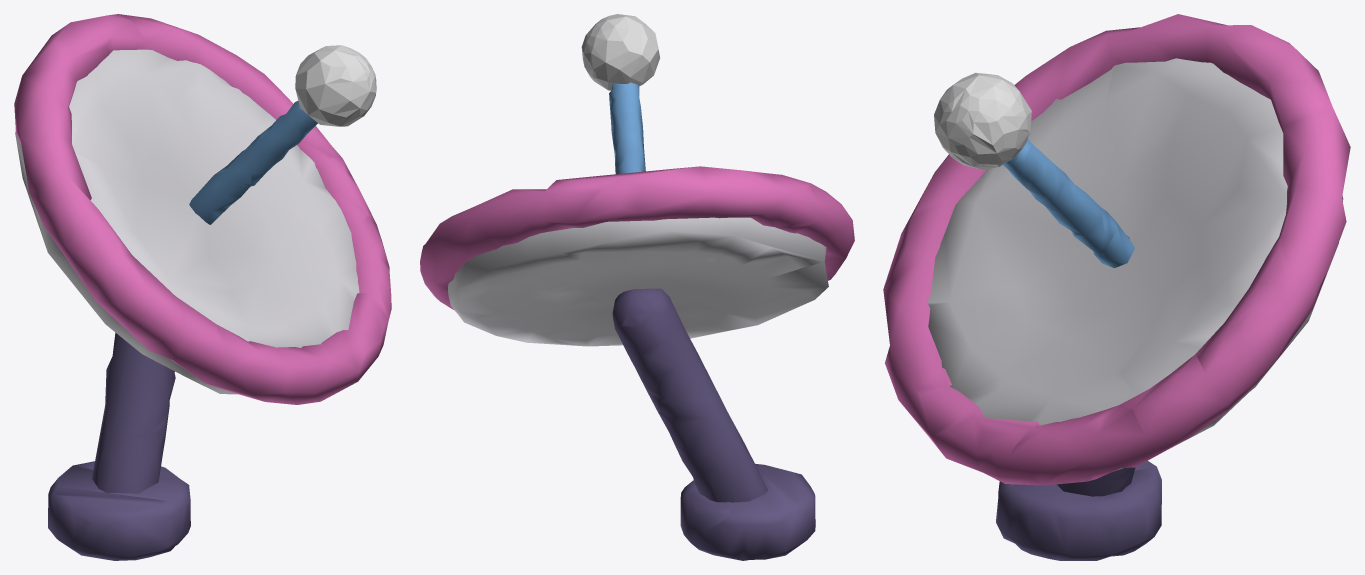
The model's file is gear_antenne.glb.
3 renders of one model, left to right at view 1: azimuth 30°, elevation 25°; view 2: azimuth 150°, elevation 25°; view 3: azimuth 270°, elevation 25°, orthographic. The views are drawn at different scales.
Visible parts, largest first — view 1: arm_l__antenne, arm_l__antenne_glow; view 2: arm_l__antenne, arm_l__antenne_glow; view 3: arm_l__antenne, arm_l__antenne_glow.
Boxes of the visible parts, x1,y1,x2,y2 form: arm_l__antenne: (14, 14, 391, 560); arm_l__antenne_glow: (295, 45, 376, 126); arm_l__antenne: (420, 82, 854, 560); arm_l__antenne_glow: (581, 14, 660, 90); arm_l__antenne: (883, 14, 1350, 560); arm_l__antenne_glow: (934, 72, 1031, 169).
Size of the model in its own units: 0.1555 by 0.1967 by 0.146.
